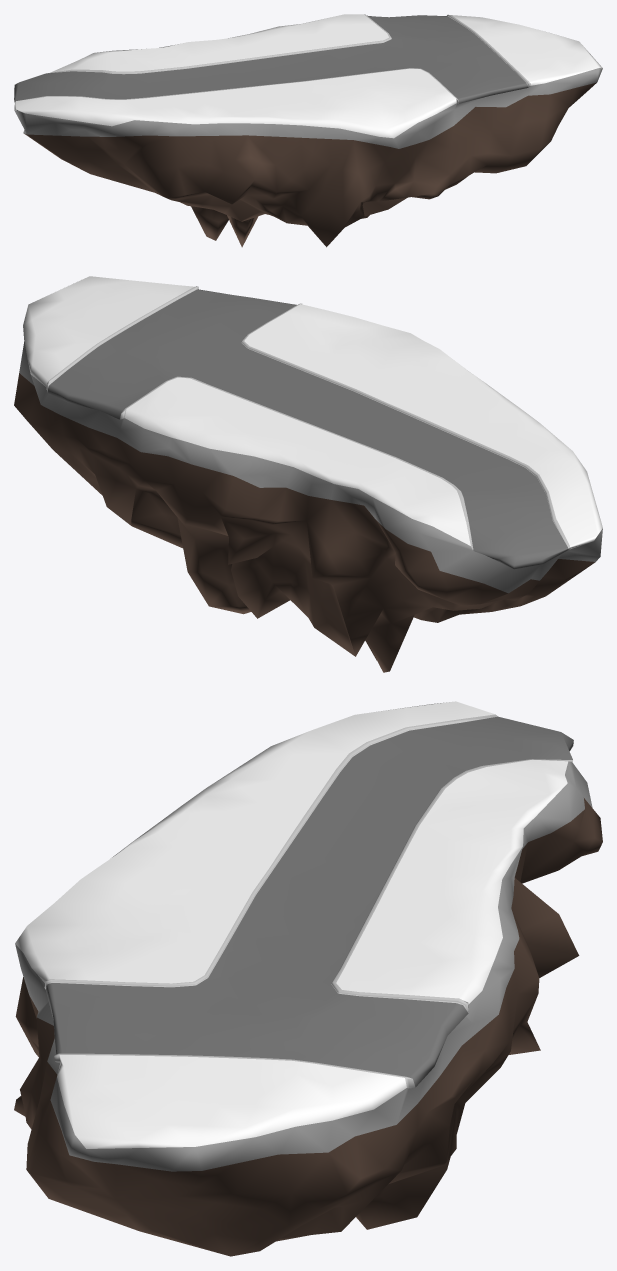
The model's file is Shell_Level2.fbx.
3 renders of one model, top to bottom at view 1: azimuth 30°, elevation 25°; view 2: azimuth 150°, elevation 25°; view 3: azimuth 270°, elevation 25°, orthographic. The views are drawn at different scales.
Visible parts, largest first — view 1: maya_level_02; view 2: maya_level_02; view 3: maya_level_02.
Part boxes in pixels (x1,y1,x2,y2): maya_level_02: (14,14,602,247); maya_level_02: (14,276,602,672); maya_level_02: (14,701,602,1256).
Bounding box in the file's own units: 5290 × 1790 × 2963.
